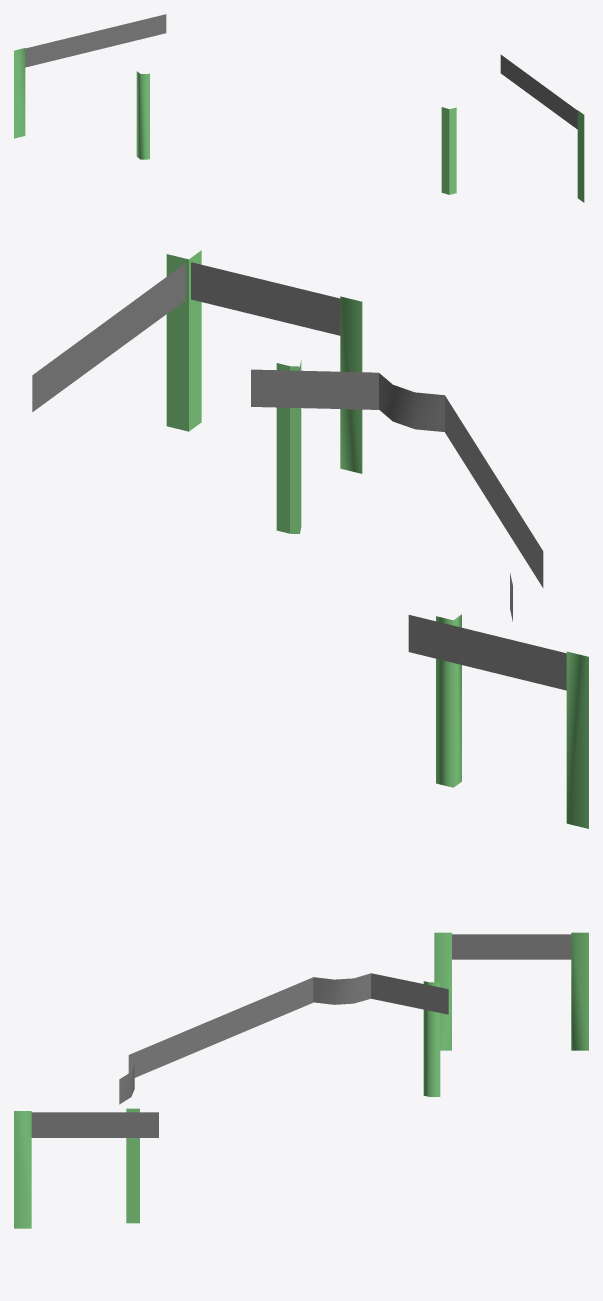
The model's file is interior_B_delf_store_16.gltf.
The picture shows the model from 3 angles, top to bottom: view 1: azimuth 30°, elevation 25°; view 2: azimuth 150°, elevation 25°; view 3: azimuth 270°, elevation 25°; orthographic projection. The views are drawn at different scales.
Visible parts, largest first — view 1: interior_B_delf_store_16; view 2: interior_B_delf_store_16; view 3: interior_B_delf_store_16.
Part boxes in pixels (x1=…): interior_B_delf_store_16: x1=14, y1=14, x2=584, y2=202; interior_B_delf_store_16: x1=32, y1=250, x2=588, y2=828; interior_B_delf_store_16: x1=14, y1=932, x2=588, y2=1228.
Size of the model in its own units: 7.37 by 1.66 by 7.36.
